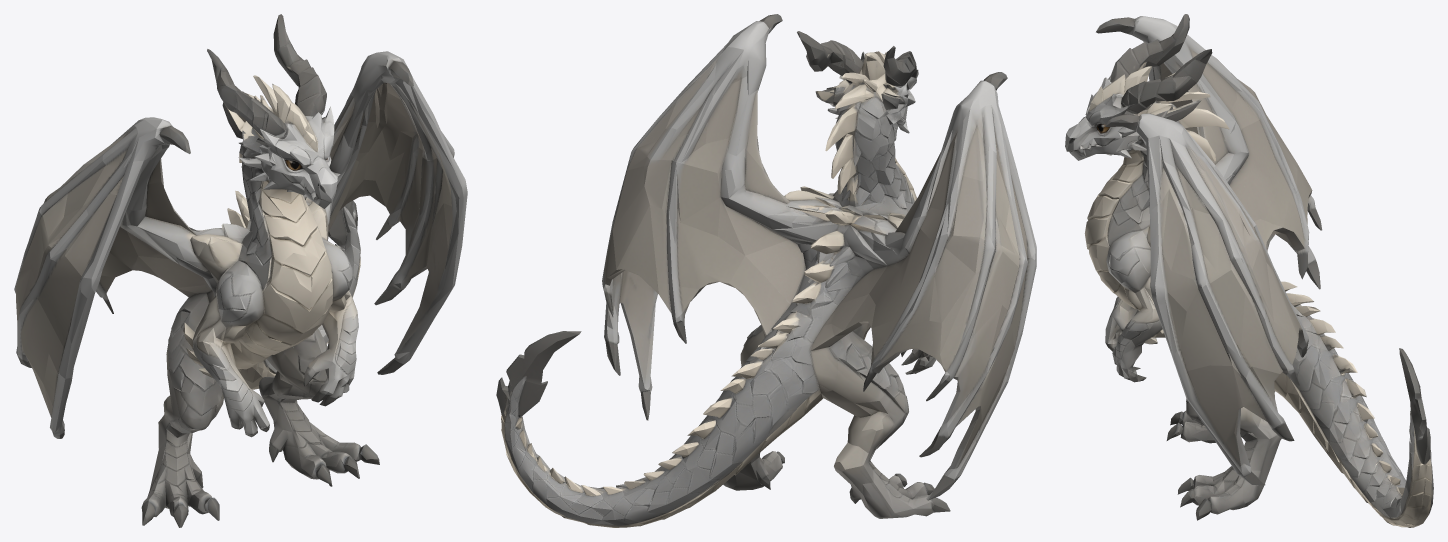
The picture shows the model from 3 angles, left to right: view 1: azimuth 30°, elevation 25°; view 2: azimuth 150°, elevation 25°; view 3: azimuth 270°, elevation 25°; orthographic projection. The views are drawn at different scales.
Size of the model in its own units: 1.82 by 1.9 by 1.47.
1 material, 1 textured.
